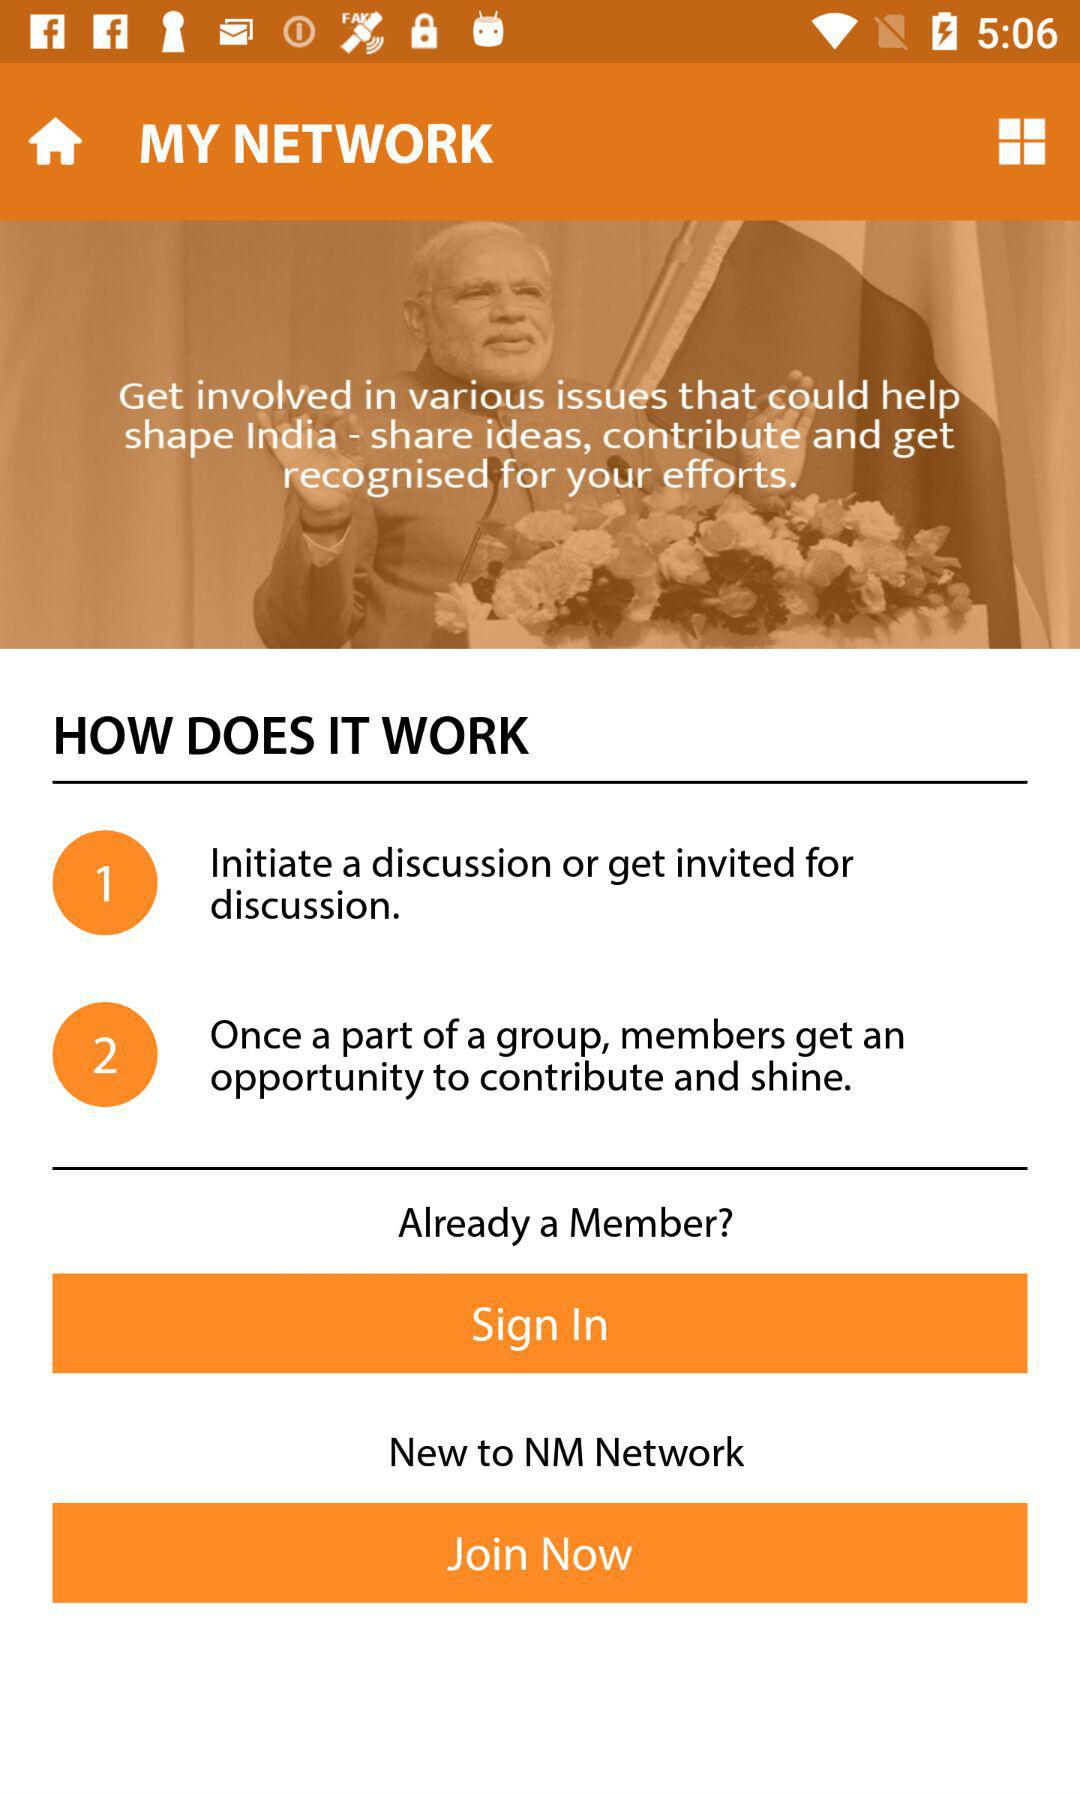Icon: (28, 117, 85, 167), (998, 118, 1045, 167)
Image: (1, 222, 1080, 650), (53, 1002, 159, 1108), (53, 830, 159, 935)
Text: (120, 381, 960, 501), (211, 1017, 904, 1102), (211, 844, 855, 921), (56, 715, 530, 756), (140, 123, 496, 167), (398, 1206, 734, 1247), (391, 1435, 746, 1467)
TextButton: (53, 1502, 1027, 1603), (53, 1272, 1027, 1374)
UpperTaskBar: (1, 1, 1080, 64)
